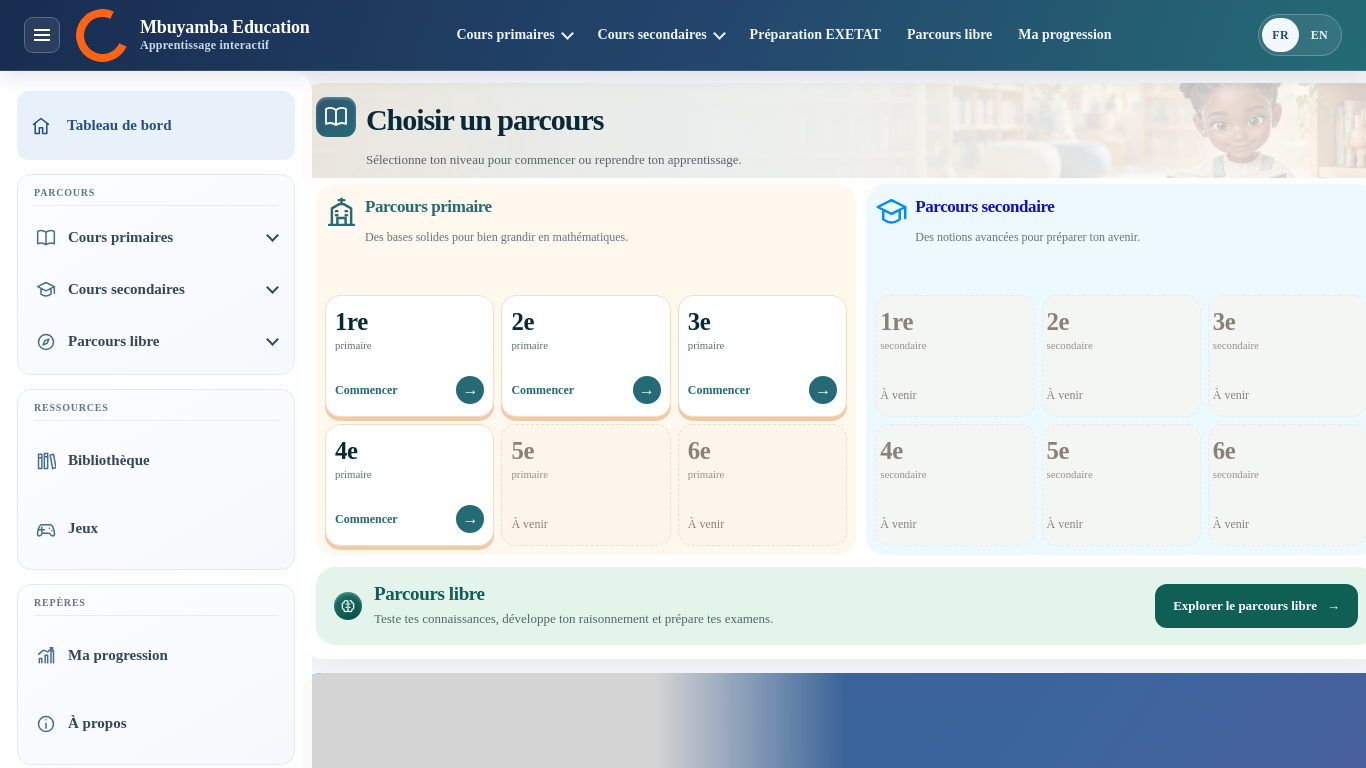
it: Parcours libre › un clic sur Parcours libre ouvre la page de choix et ses deux sous-menus
The width and height of the screenshot is (1366, 768).
What coordinates should you click on to do the following:
click the button with aria-label "Sections du Parcours libre"
I would click on:
 (156, 342)
Its box is [26, 317, 286, 366].
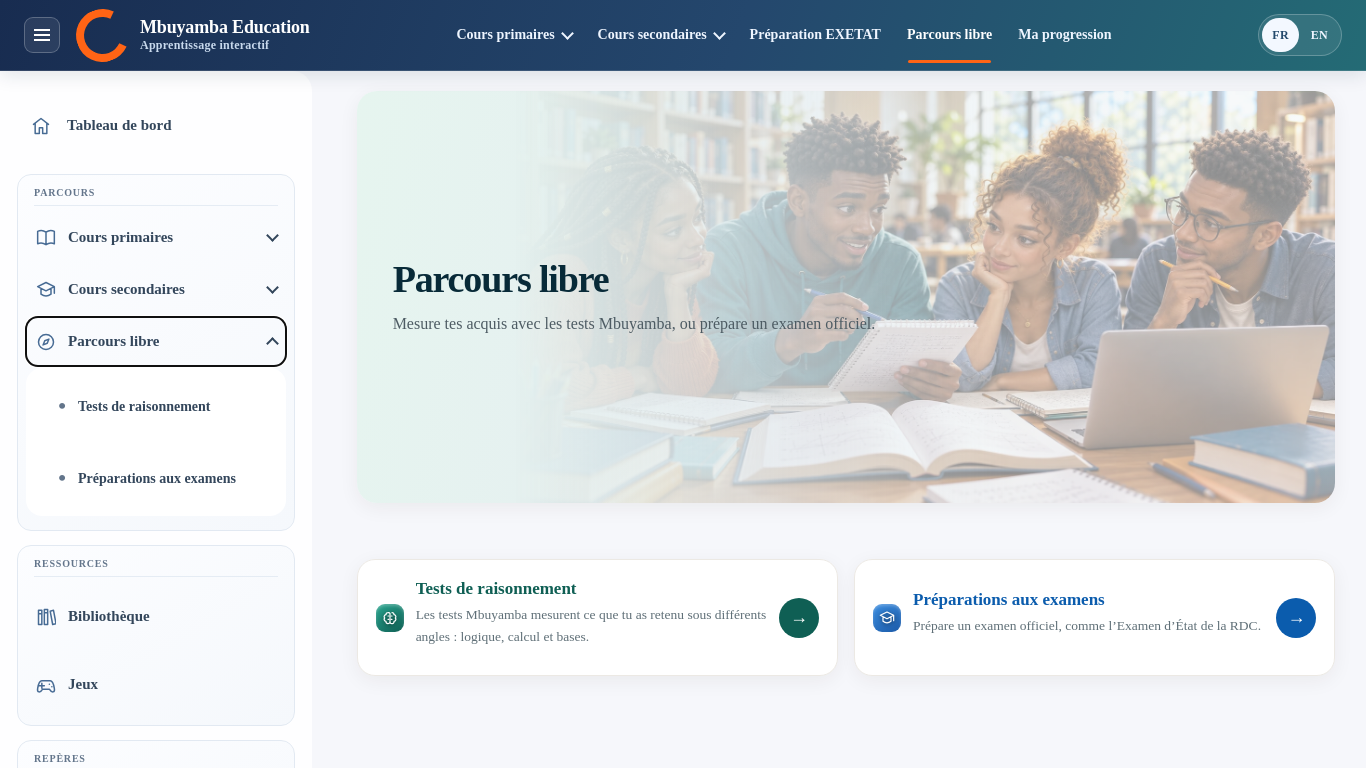
expect the heading reads "Parcours libre": met, box [393, 258, 608, 300]
expect the button with aria-label "Sections du Parcours libre" is expanded: met, box [26, 317, 286, 366]
